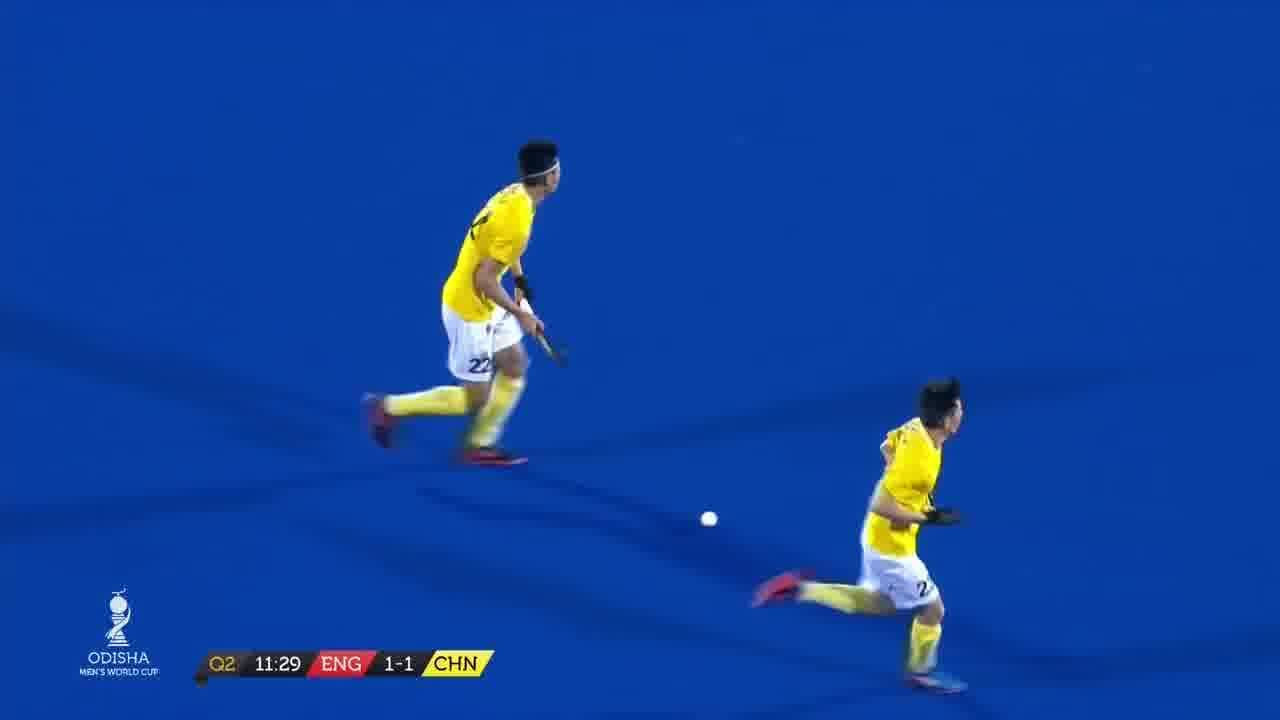ball: (696, 504, 722, 534)
